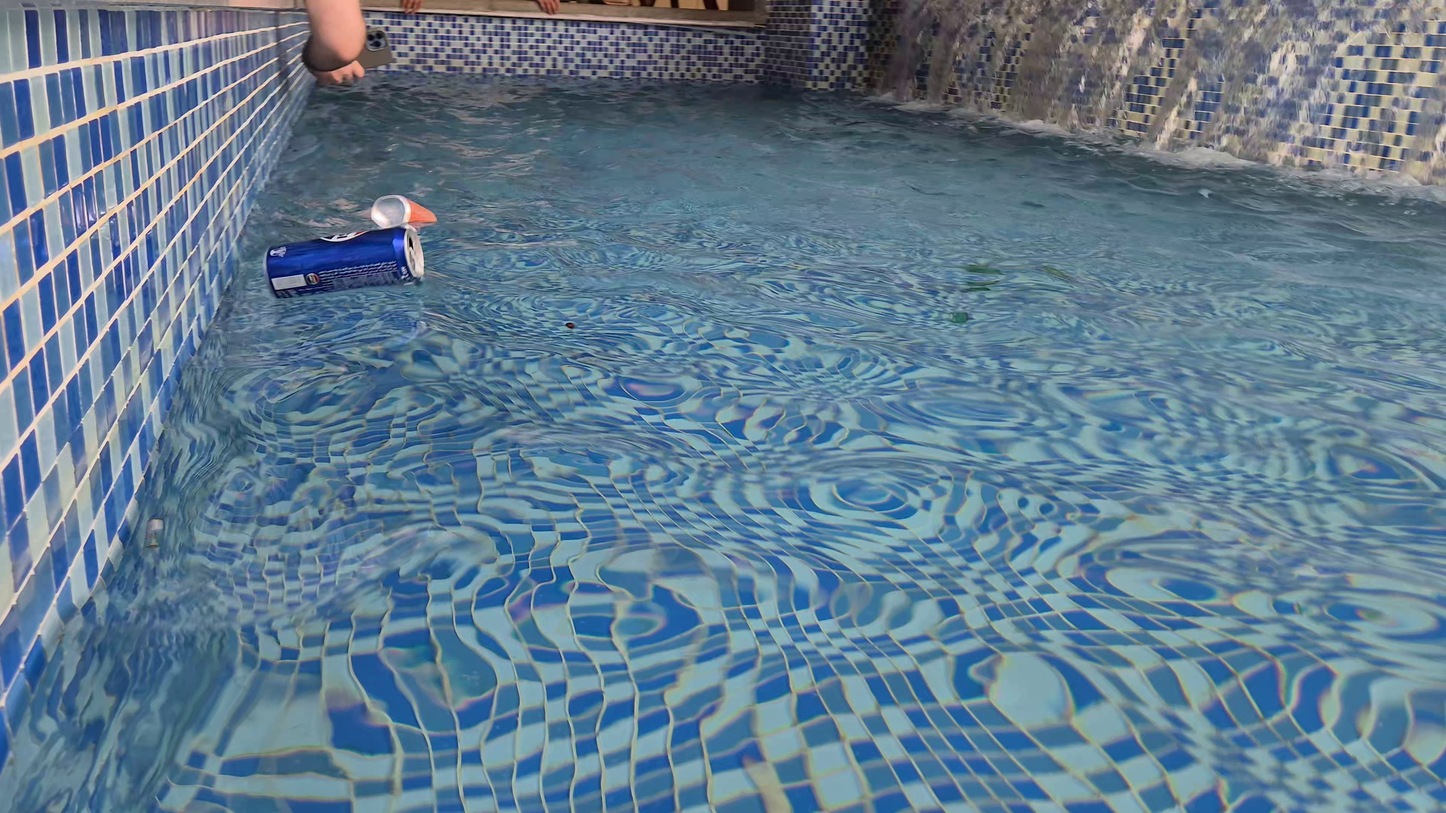debris: (254, 223, 429, 299), (372, 190, 441, 236)
